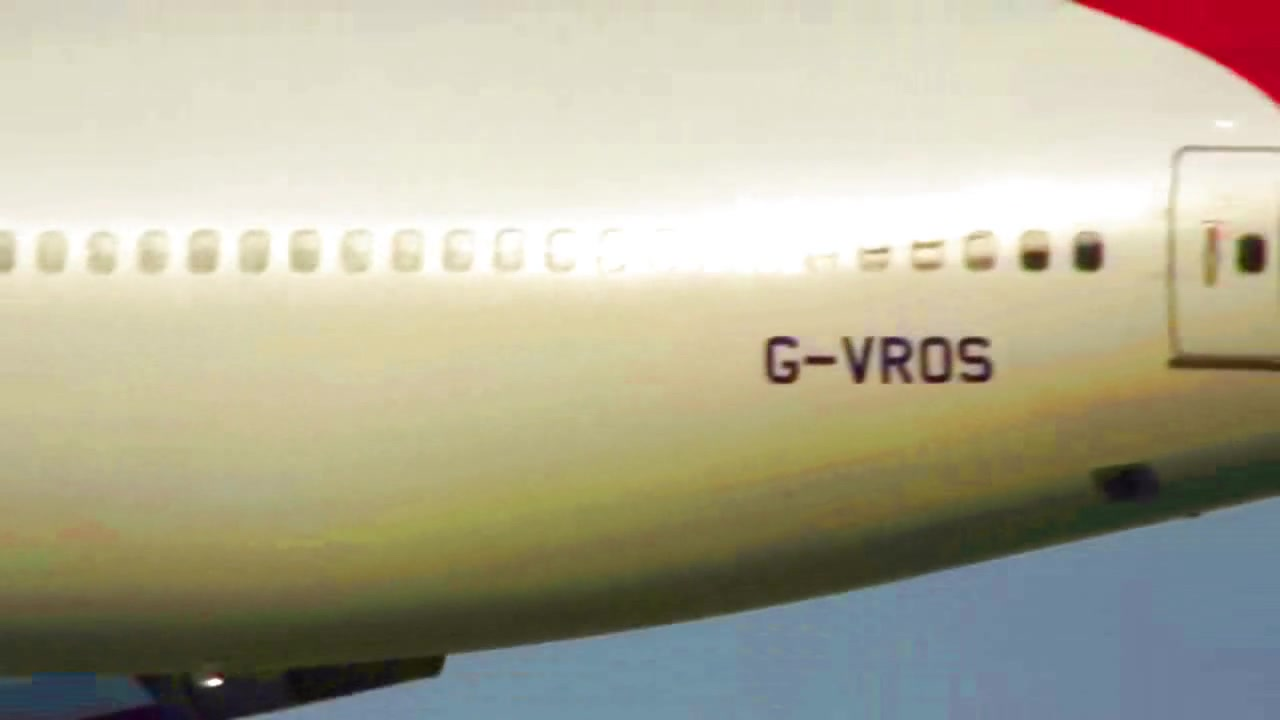aeroplane: (2, 1, 1280, 717)
